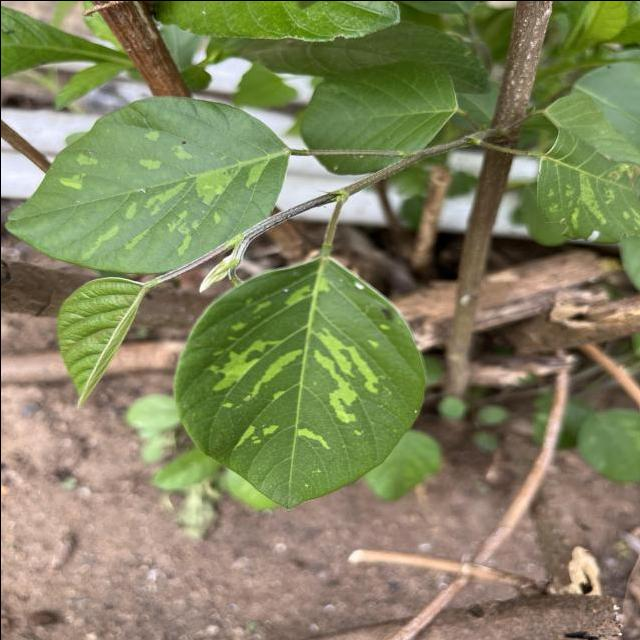Desmodium gangeticum: (2, 92, 292, 276)
